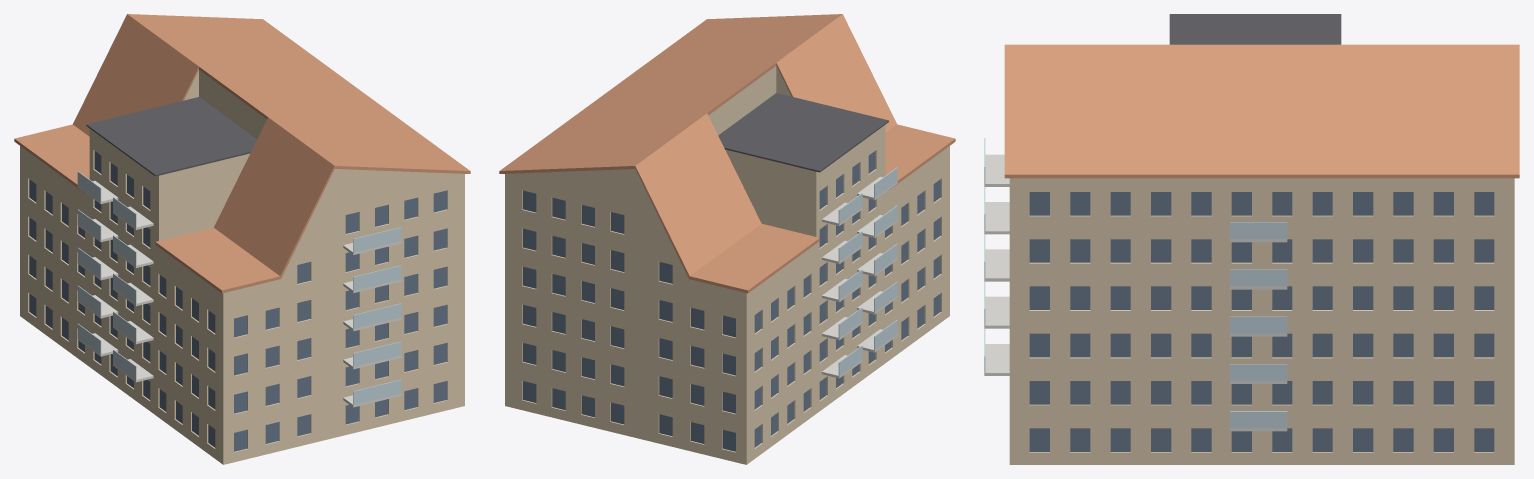
The model's file is bygning.glb.
The picture shows the model from 3 angles, left to right: view 1: azimuth 30°, elevation 25°; view 2: azimuth 150°, elevation 25°; view 3: azimuth 270°, elevation 25°; orthographic projection. The views are drawn at different scales.
Visible parts, largest first — view 1: bygning (×6); view 2: bygning (×6); view 3: bygning (×6).
Boxes of the visible parts, <box> form: bygning (×6): <box>14,14,470,464</box>; bygning (×6): <box>499,14,955,464</box>; bygning (×6): <box>984,14,1519,464</box>.
Size of the model in its own units: 23.57 by 22.29 by 31.8.
